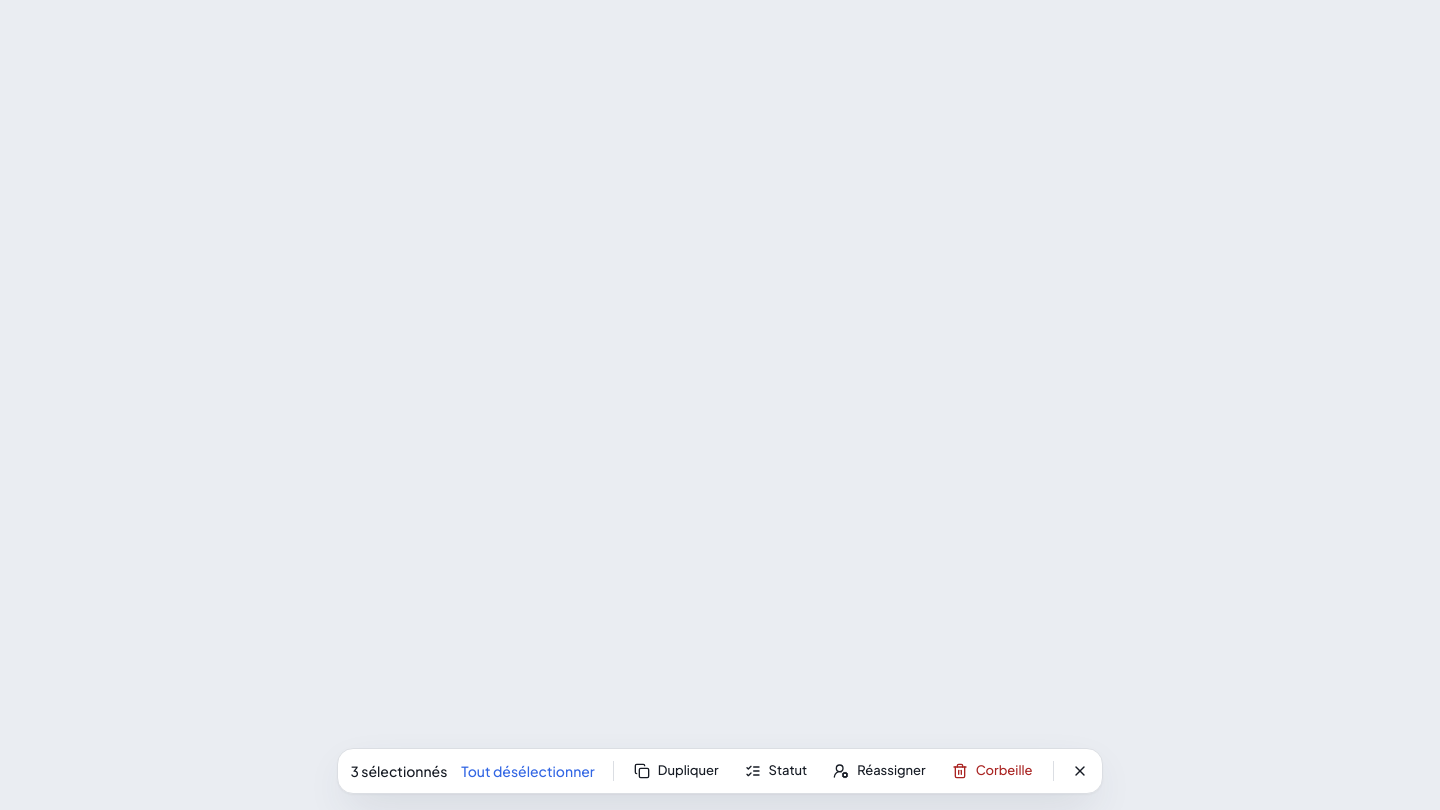
Test: BulkActionBar › met à la corbeille chaque post sélectionné après confirmation
The width and height of the screenshot is (1440, 810).
Click the button "Corbeille": (992, 771) [942,755,1043,787]
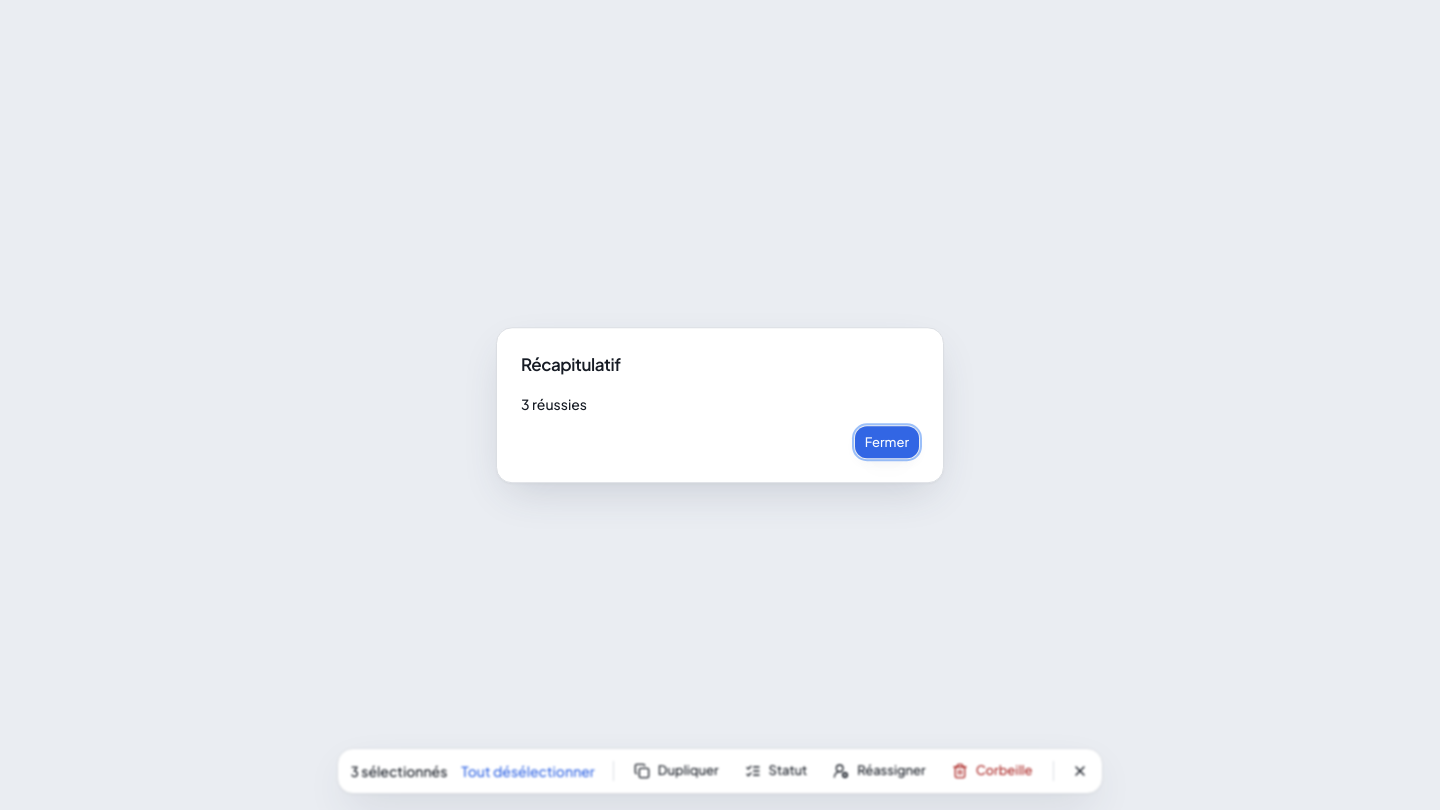
Result: the text "3 réussies" is shown at [521,395,587,413]
